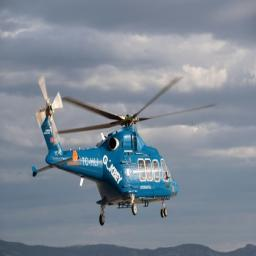helicopter: (29, 72, 221, 229)
